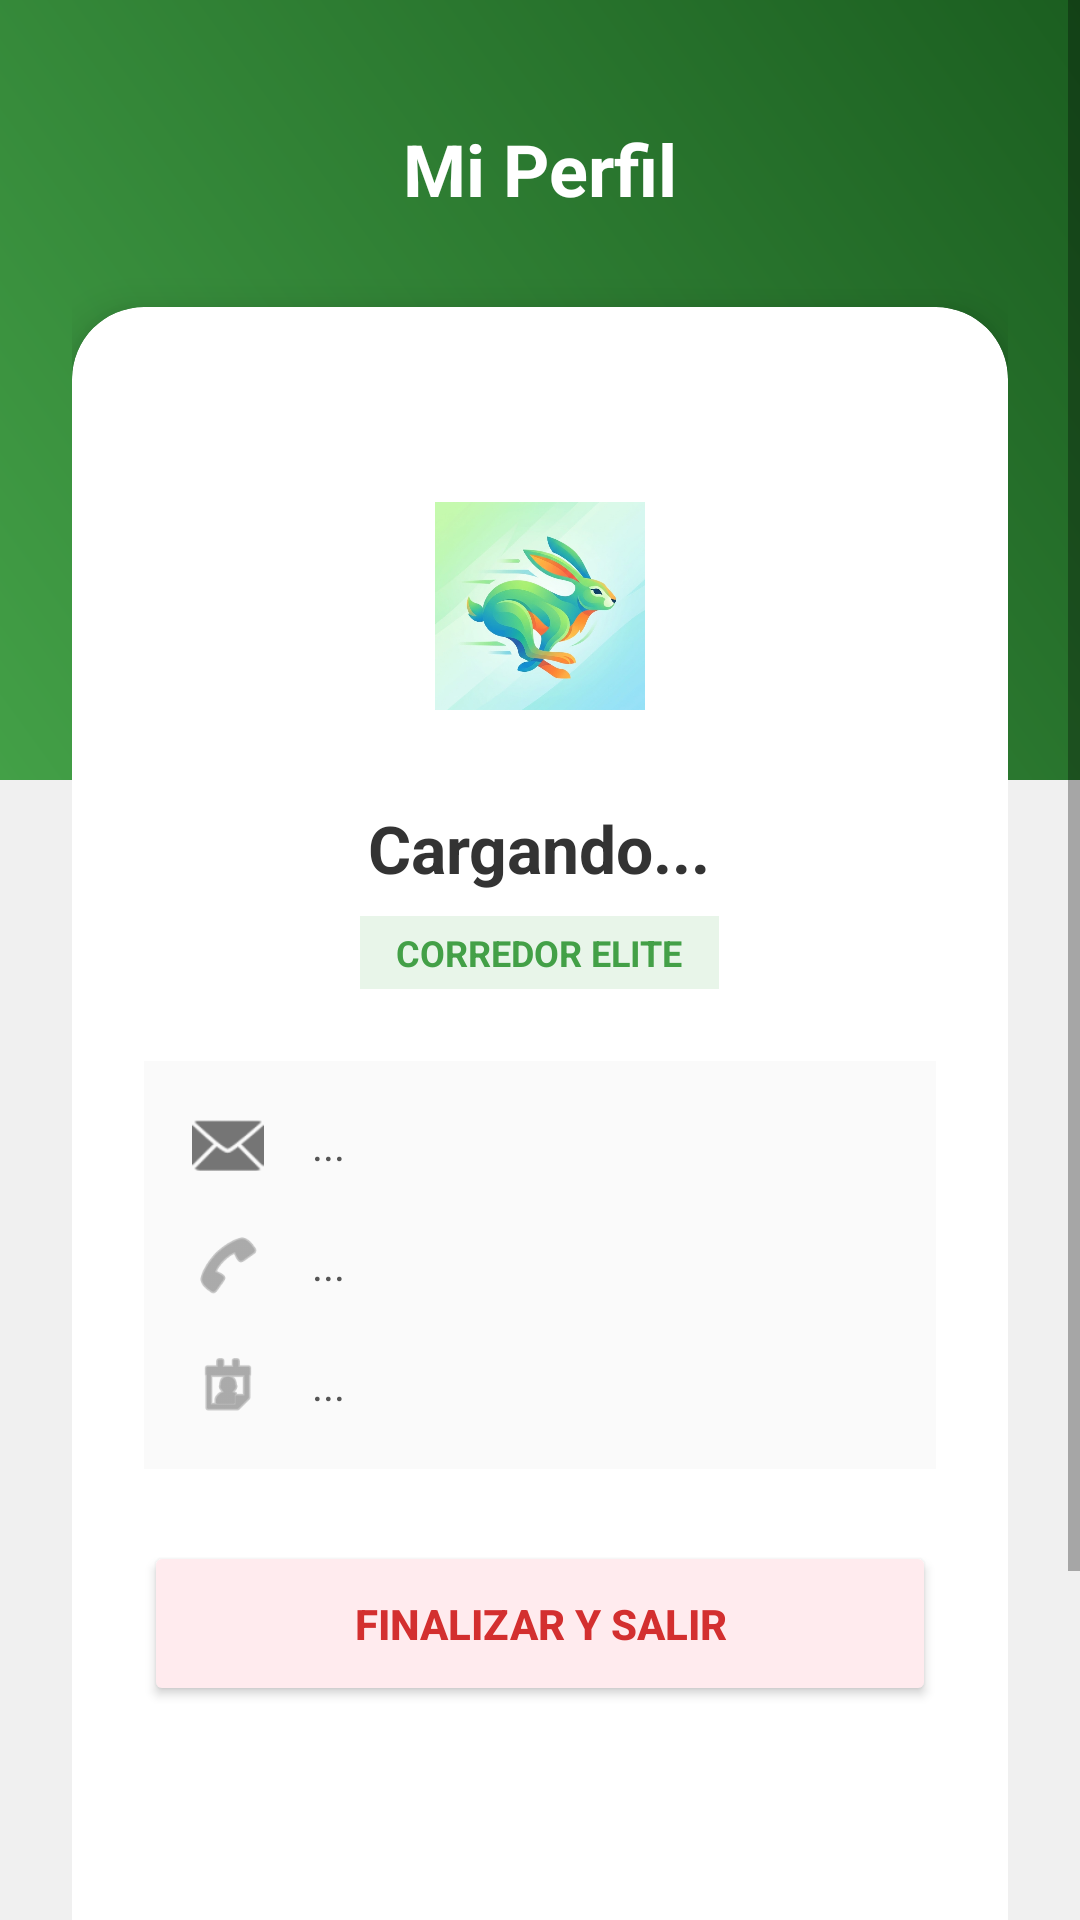

Icons on this 1080px×1920px Android screen, each with its box as (x1, y1, x2, y2):
calendar: (205, 1358, 251, 1410)
call: (200, 1237, 256, 1293)
email: (192, 1120, 264, 1171)
